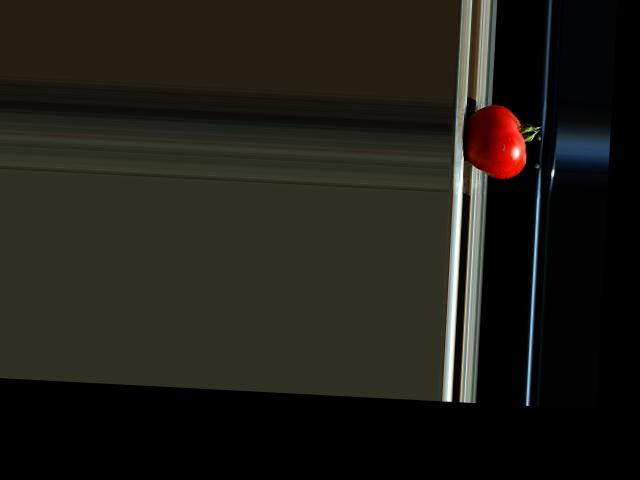tomato: (463, 103, 541, 180)
